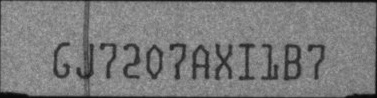1: (261, 41, 279, 81)
2: (123, 42, 142, 79)
7: (99, 41, 117, 79), (168, 42, 186, 79), (308, 43, 326, 79)
A: (191, 44, 211, 79)
B: (284, 42, 301, 80)
G: (53, 41, 71, 79)
I: (237, 43, 255, 80)
J: (75, 42, 94, 79)
O: (145, 44, 164, 79)
X: (215, 42, 233, 80)
